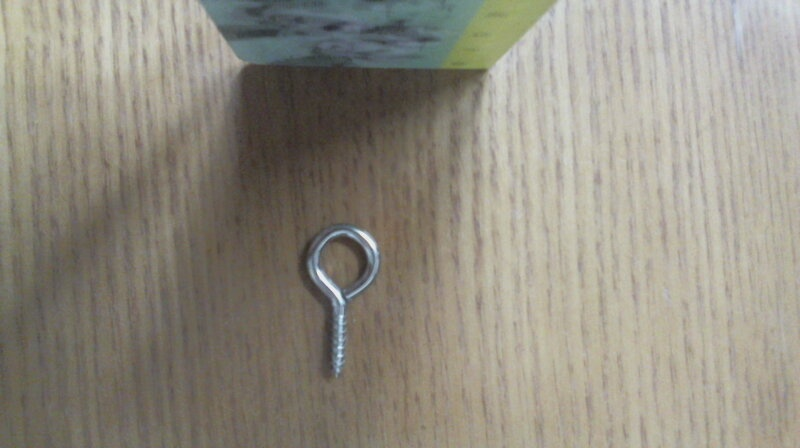O001: (302, 222, 383, 378)
